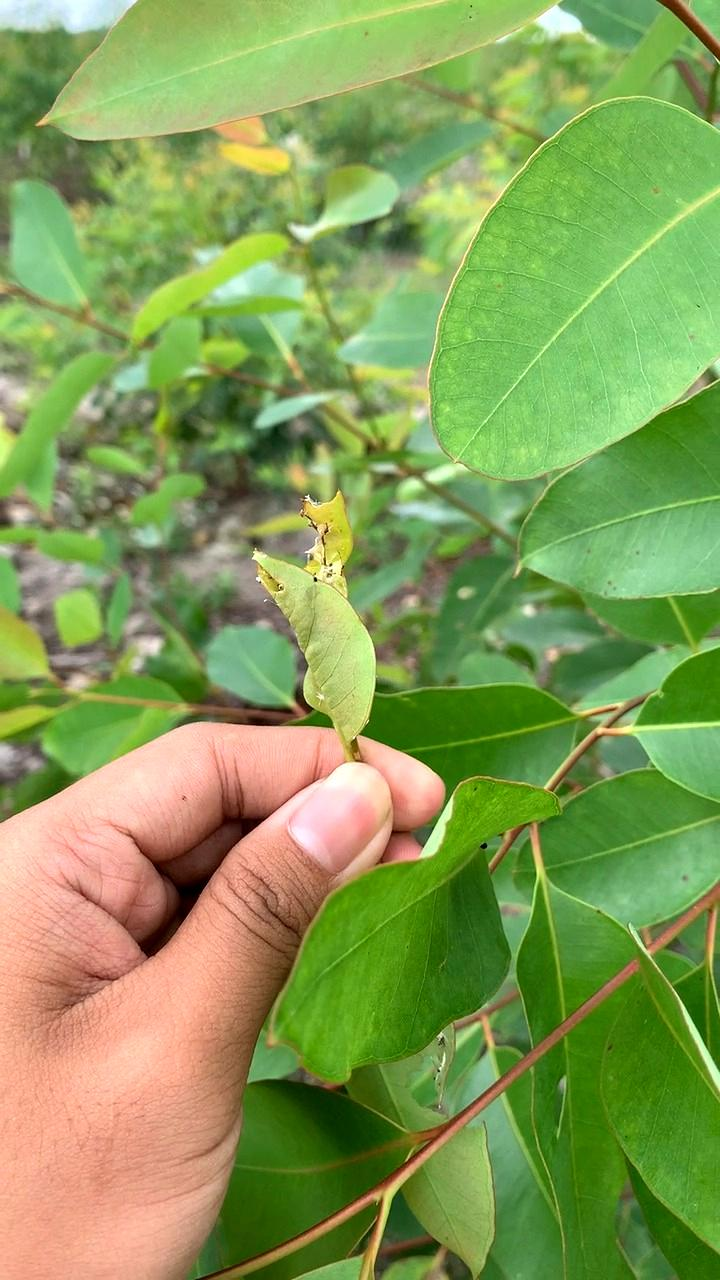Leaf Roller - Leaf: (243, 498, 387, 729)
